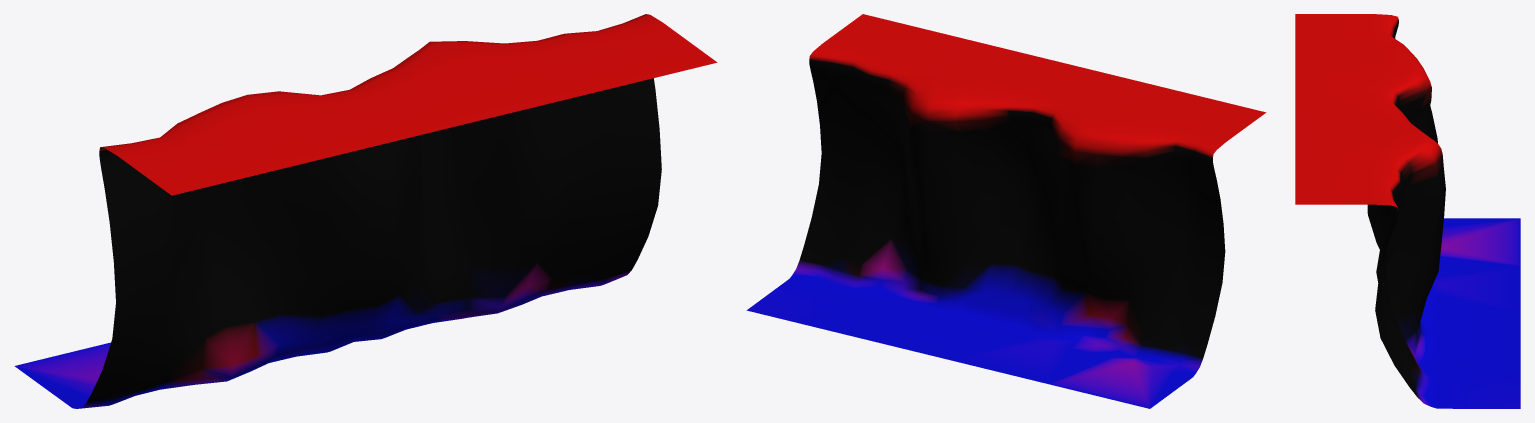
File: GroundCliff02A 2M for Water Background.fbx
3 renders of one model, left to right at view 1: azimuth 30°, elevation 25°; view 2: azimuth 150°, elevation 25°; view 3: azimuth 270°, elevation 25°, orthographic. The views are drawn at different scales.
Parts seen in each view (by area): view 1: GroundCliff02A 2M for Water Background; view 2: GroundCliff02A 2M for Water Background; view 3: GroundCliff02A 2M for Water Background.
Part boxes in pixels (x1,y1,x2,y2): GroundCliff02A 2M for Water Background: (14,14,717,408); GroundCliff02A 2M for Water Background: (746,14,1266,408); GroundCliff02A 2M for Water Background: (1295,14,1520,408).
Size of the model in its own units: 4 by 2 by 2.
